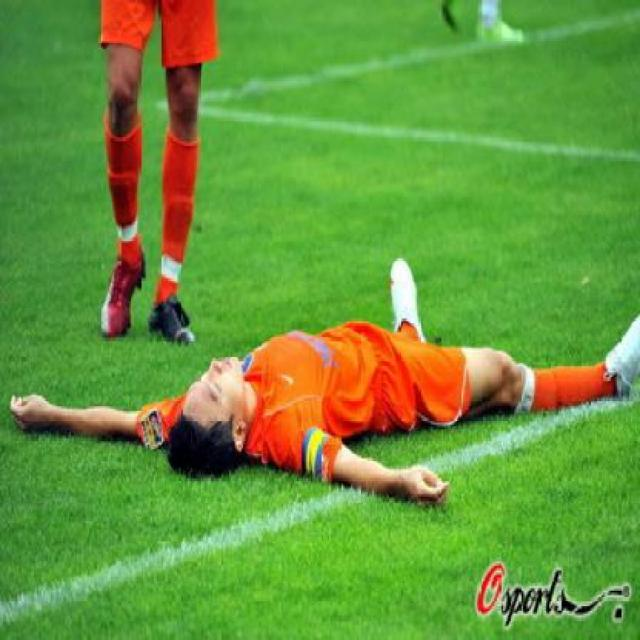fall: (0, 249, 638, 513)
